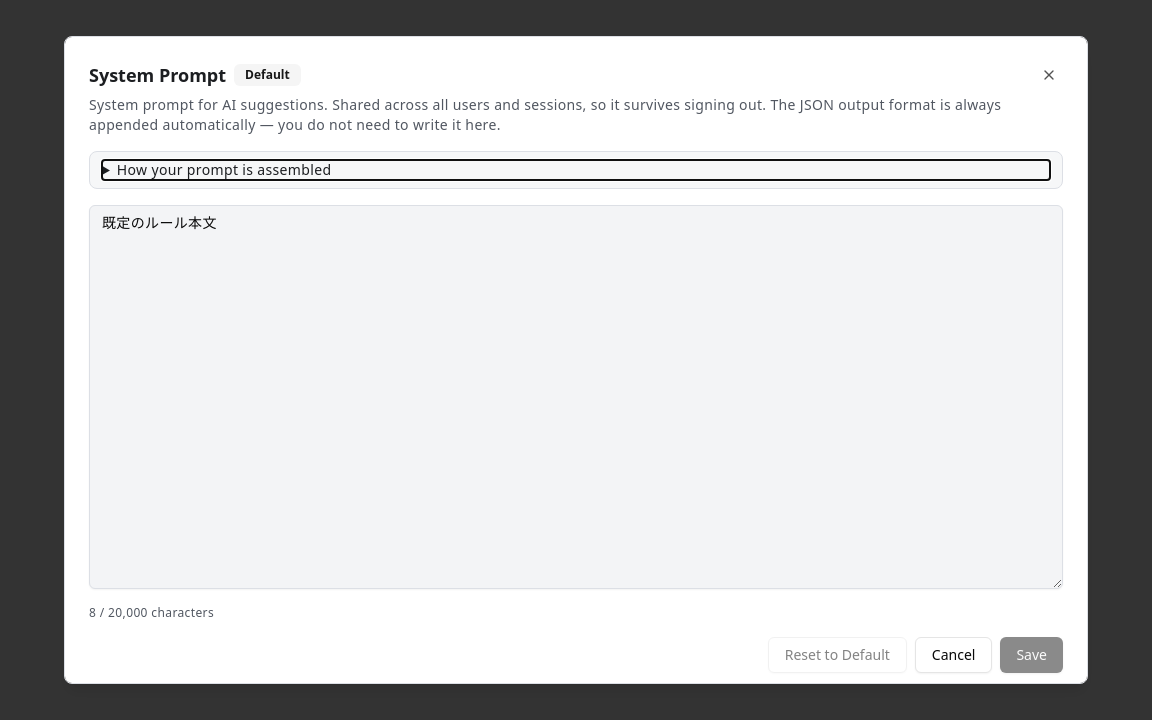
it: PromptSettingsDialog › keeps save disabled until the text actually changes
This screenshot has width=1152, height=720.
Expected: the button "Save" is disabled, x1=1000 y1=637 x2=1063 y2=673
Replace the text in the text box named "System prompt" with "編集後の本文" at (576,397), box x1=89 y1=205 x2=1063 y2=589
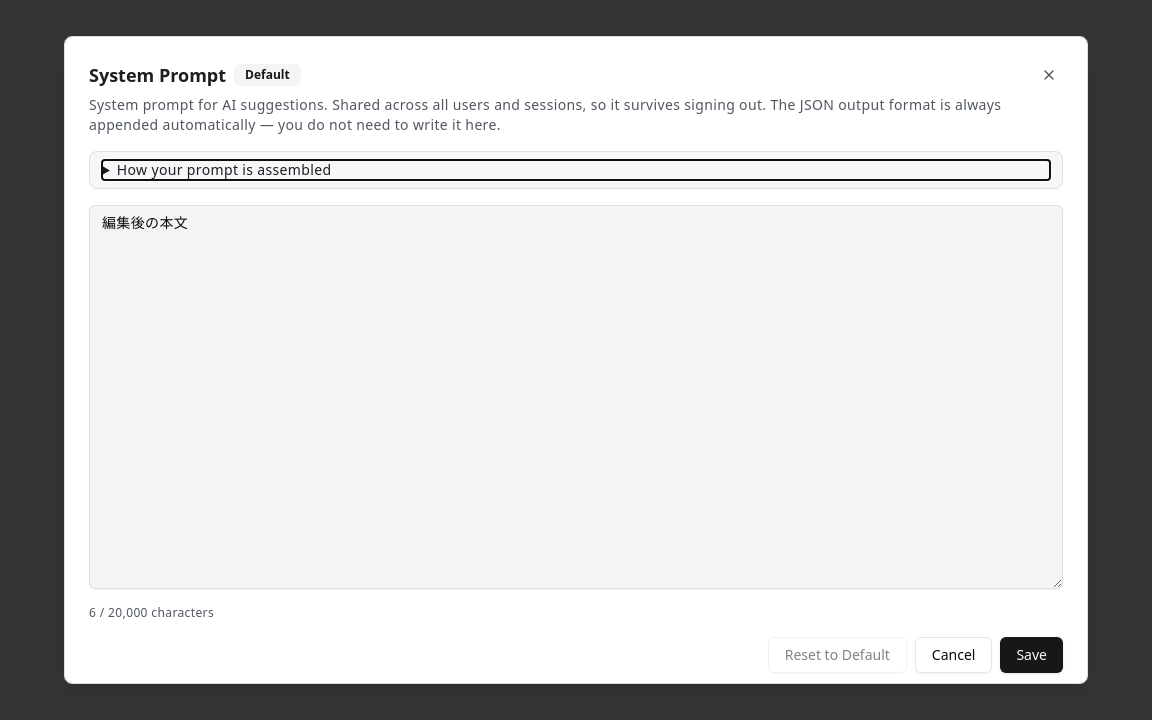
Expected: the button "Save" is enabled, x1=1000 y1=637 x2=1063 y2=673
